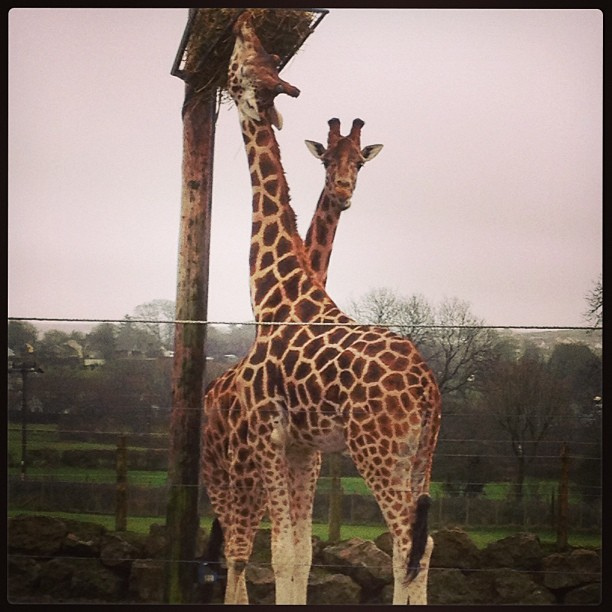giraffe: (222, 25, 443, 594), (167, 104, 393, 596)
